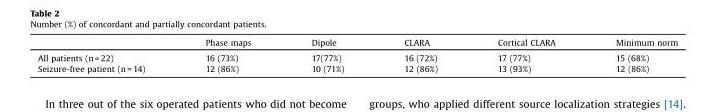table: (36, 36, 677, 73)
table column: (36, 36, 174, 73), (466, 36, 584, 73), (174, 36, 280, 73), (280, 36, 373, 73), (373, 36, 466, 73), (584, 36, 677, 73)
table column header: (36, 36, 677, 49)
table row: (36, 36, 677, 49), (36, 49, 677, 62), (36, 62, 677, 73)
